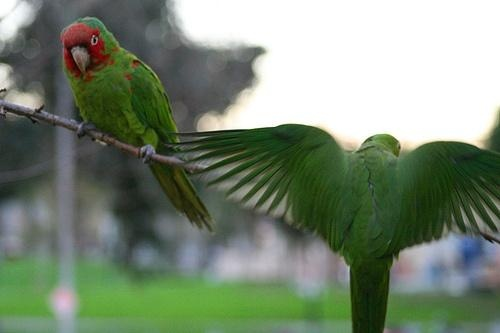bird: (161, 122, 500, 333), (59, 15, 220, 239)
